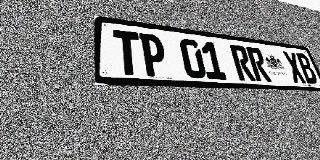0: (179, 38, 207, 79)
1: (199, 40, 227, 80)
B: (295, 53, 319, 84)
P: (139, 33, 168, 77)
R: (229, 44, 256, 81), (245, 46, 272, 82)
T: (113, 30, 143, 76)
X: (282, 51, 307, 83)
